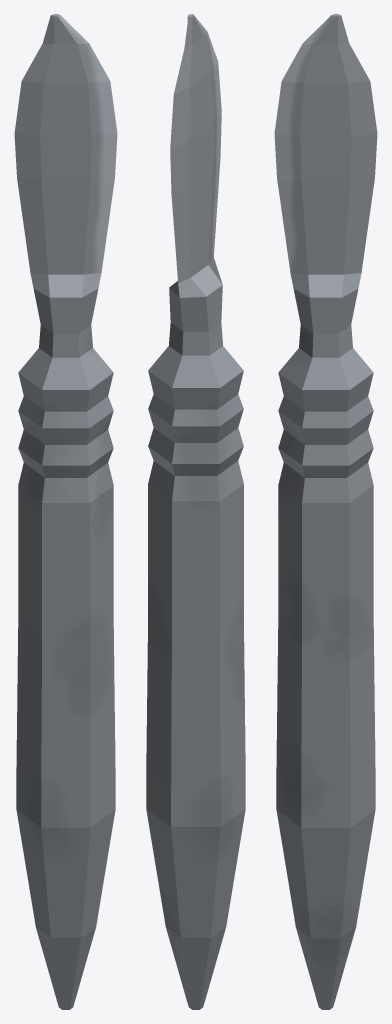
File: Scalpel.fbx
3 renders of one model, left to right at view 1: azimuth 90°, elevation 25°; view 2: azimuth 150°, elevation 25°; view 3: azimuth 270°, elevation 25°, orthographic.
Parts seen in each view (by area): view 1: Scalpel; view 2: Scalpel; view 3: Scalpel.
Boxes of the visible parts, box(x1,y1,x2,y2) form: Scalpel: box(14, 14, 117, 1009); Scalpel: box(146, 14, 245, 1009); Scalpel: box(274, 14, 377, 1009).
Bounding box in the file's own units: 2.76 × 35.2 × 3.31.
Materials: 1 (1 with a texture image).
